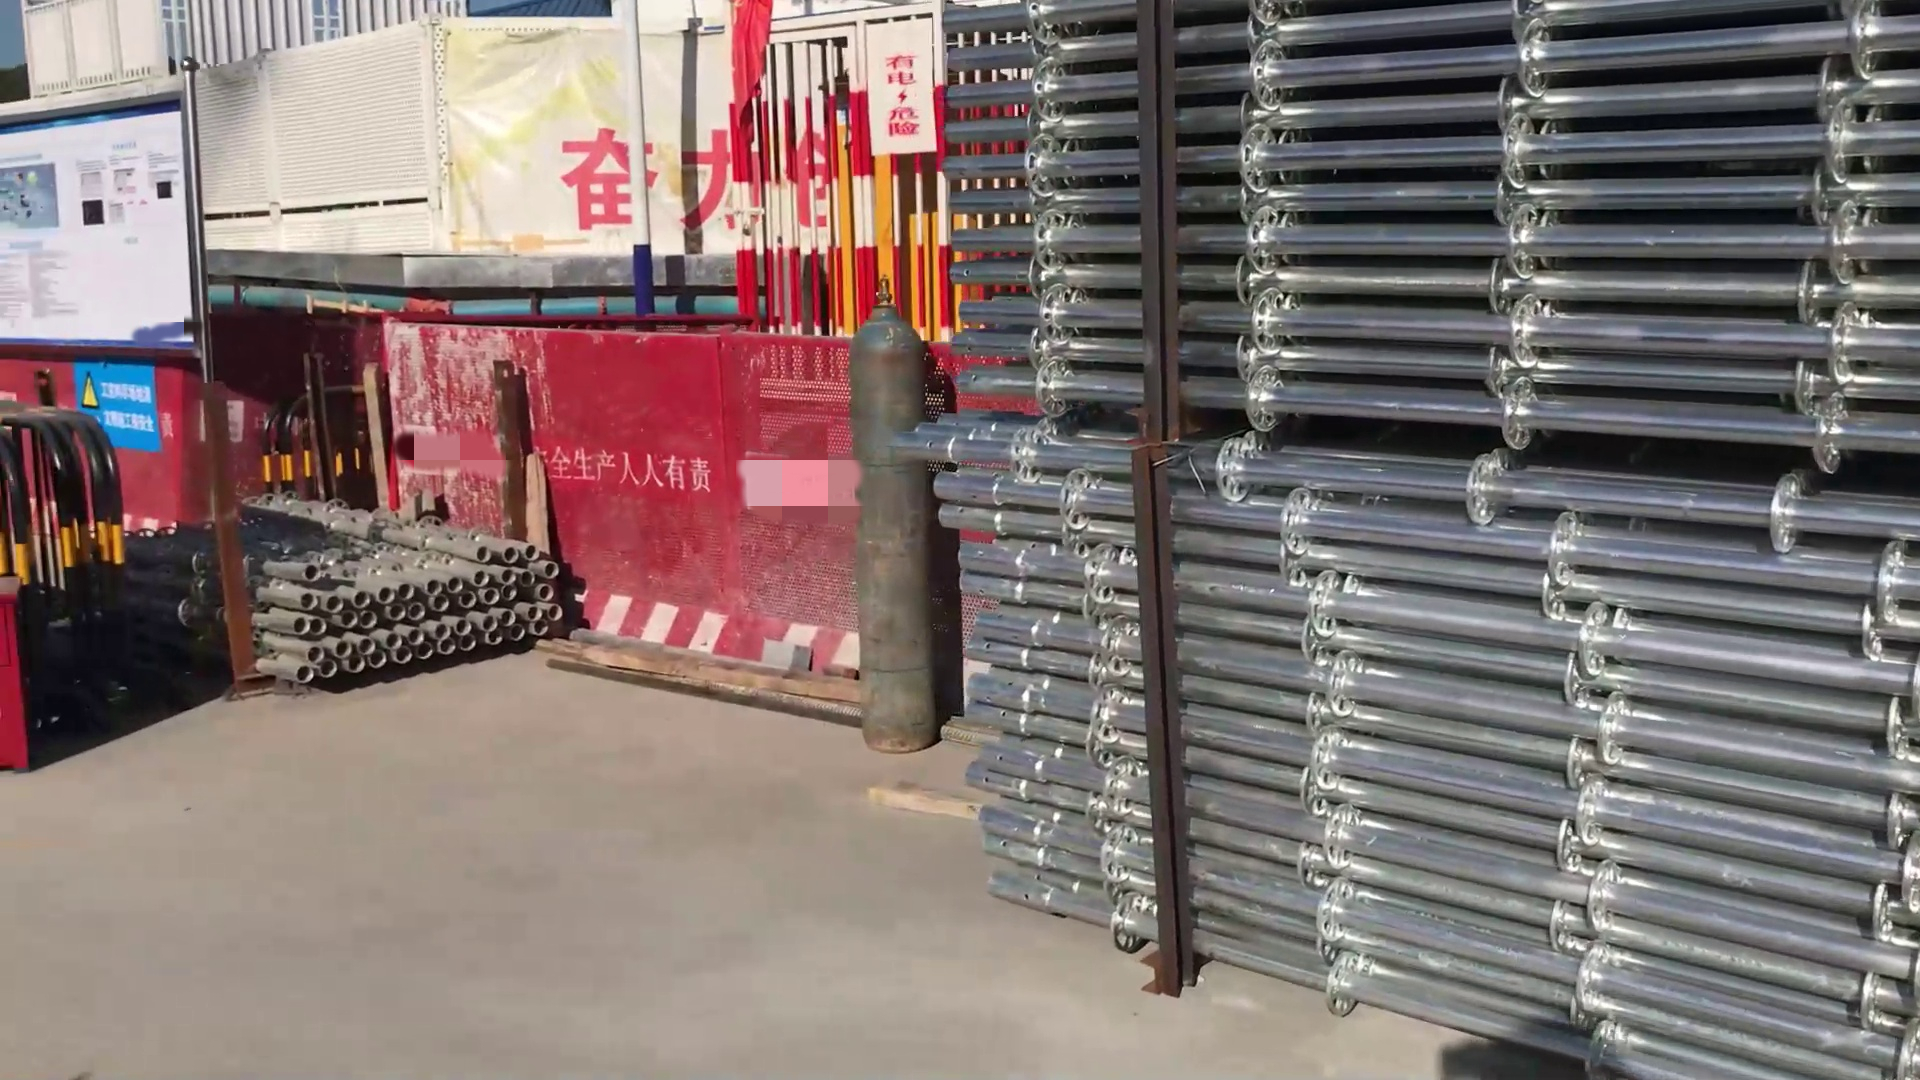fence: (390, 313, 862, 688), (740, 29, 945, 338), (7, 404, 124, 712), (255, 372, 382, 512)
scaffold: (931, 1, 1905, 1080), (119, 487, 574, 688)
slogan: (79, 363, 157, 447), (872, 41, 928, 156)
